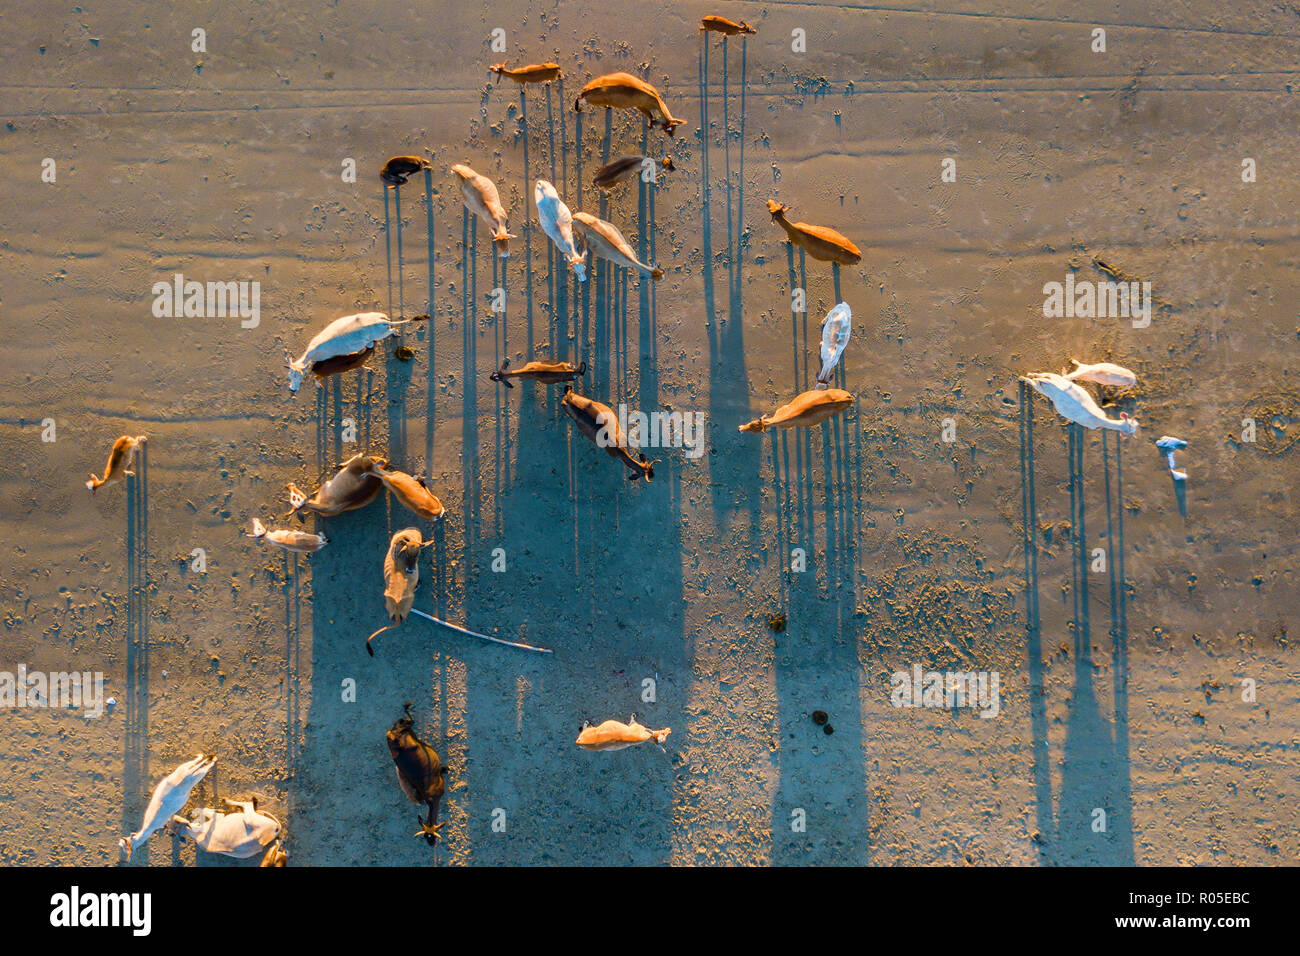cattle: (265, 301, 429, 401), (373, 698, 463, 854), (762, 173, 873, 292), (1030, 360, 1153, 461), (569, 196, 680, 307), (556, 395, 669, 493), (439, 149, 530, 268), (117, 736, 211, 850), (581, 64, 694, 152), (272, 436, 386, 522), (523, 179, 597, 284), (185, 807, 300, 870), (741, 389, 863, 448), (367, 455, 467, 528), (373, 522, 436, 636), (571, 704, 678, 761), (587, 152, 679, 208), (484, 341, 580, 393), (240, 510, 338, 559), (84, 420, 143, 499), (681, 8, 761, 63), (819, 301, 865, 394), (484, 52, 572, 101), (369, 146, 436, 195), (1065, 361, 1142, 402)
